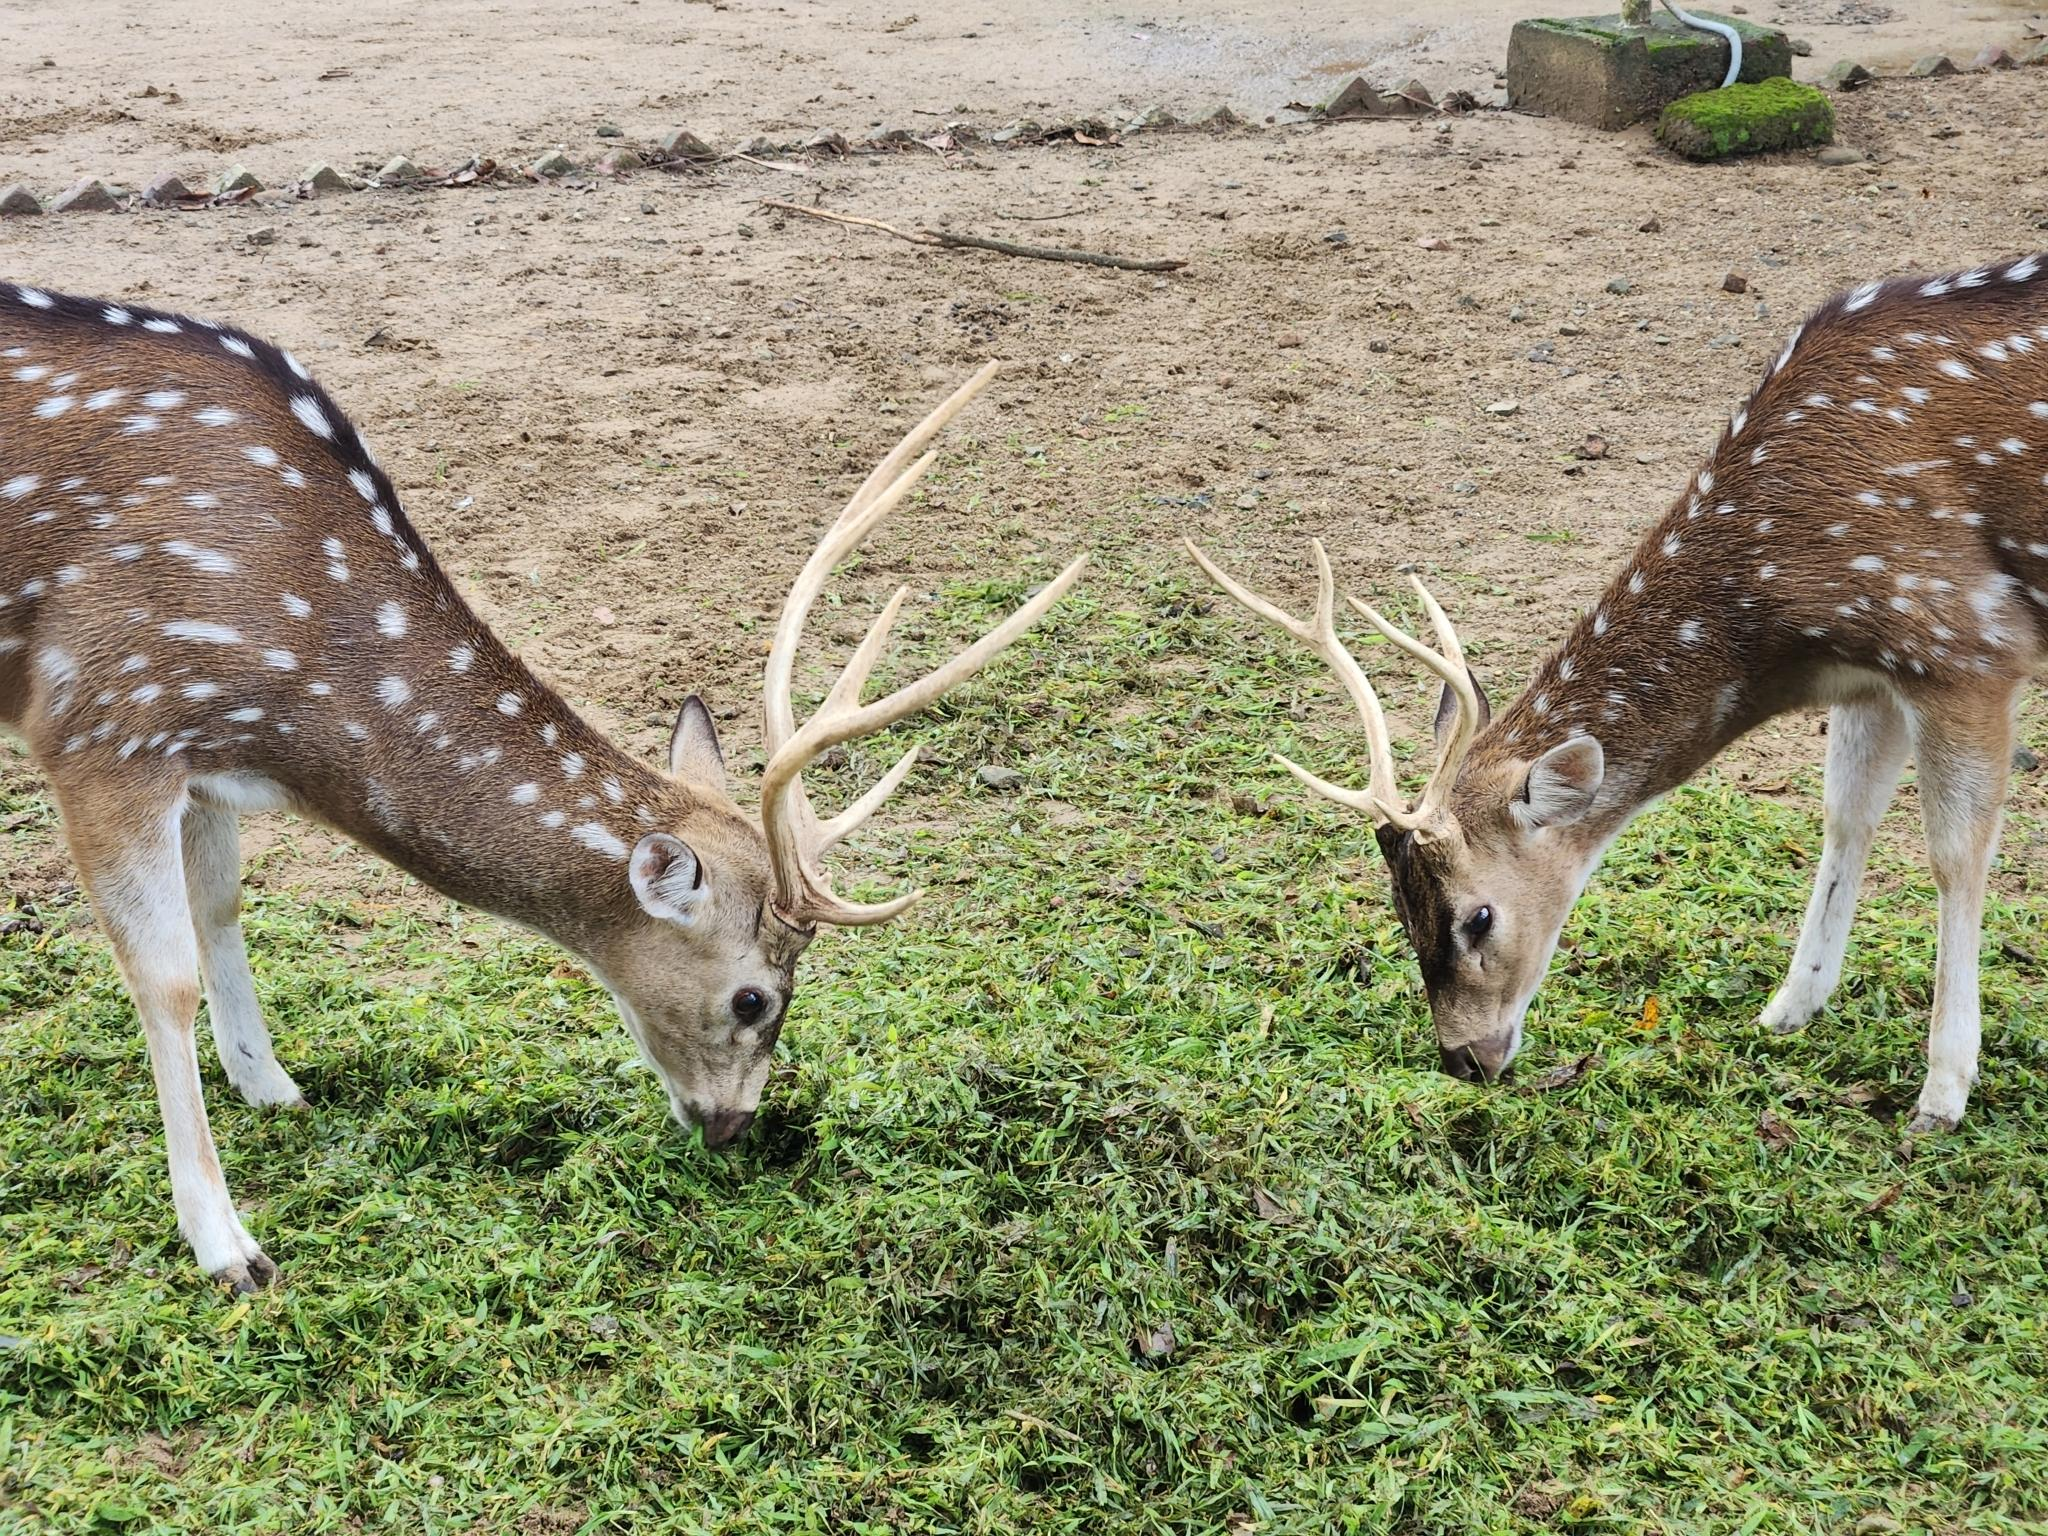Deer: (1185, 253, 2046, 1131)
